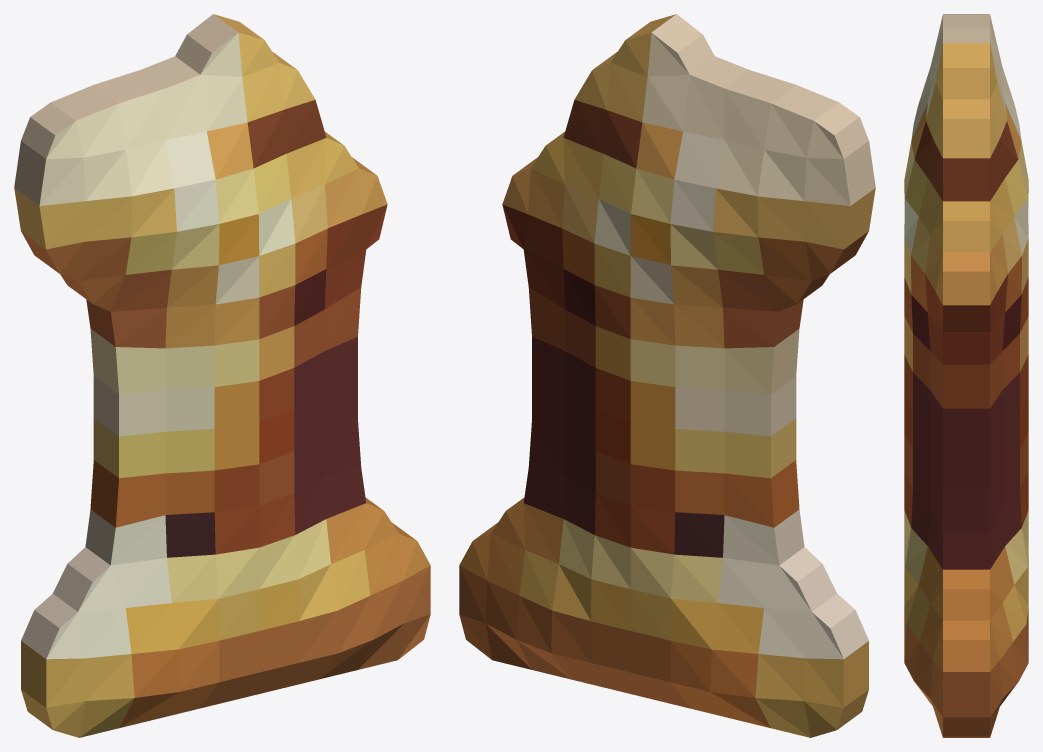
Rendered from statue_on_pedestal.glb.
The picture shows the model from 3 angles, left to right: view 1: azimuth 30°, elevation 25°; view 2: azimuth 150°, elevation 25°; view 3: azimuth 270°, elevation 25°; orthographic projection. The views are drawn at different scales.
Visible parts, largest first — view 1: statue_on_pedestal; view 2: statue_on_pedestal; view 3: statue_on_pedestal.
Boxes of the visible parts, x1,y1,x2,y2 form: statue_on_pedestal: [14, 14, 430, 737]; statue_on_pedestal: [459, 14, 875, 737]; statue_on_pedestal: [904, 14, 1028, 737].
Size of the model in its own units: 0.6143 by 1 by 0.1813.
Materials: 1 (1 with a texture image).
